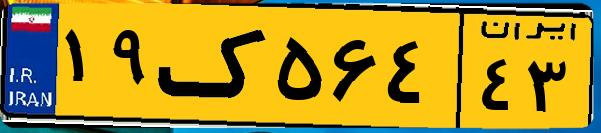1: (57, 26, 110, 100)
3: (525, 38, 570, 115)
4: (385, 28, 445, 110), (475, 38, 525, 113)
5: (270, 28, 330, 110)
6: (330, 28, 385, 110)
9: (110, 28, 158, 98)
ک: (158, 12, 270, 120)
